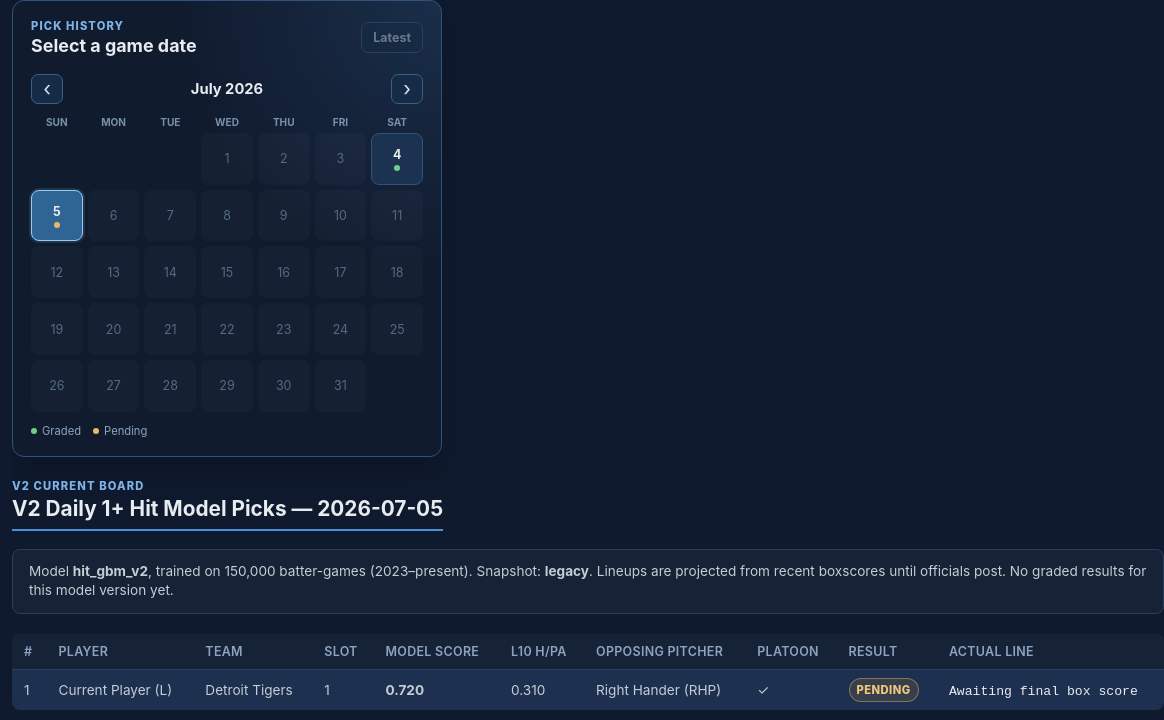
Test case: HitPicksPage history › loads a past calendar date and displays its final batting line
Expected: the text "Current Player (L)" is shown, [46,670,193,710]
Expected: the text "Awaiting final box score" is shown, [949,684,1138,698]
What coordinates should you click on to do the following:
click the button named "Show picks for 2026-07-04, graded"
I would click on:
 (397, 159)
Its box is [371,133,423,185].
(page scrolled)
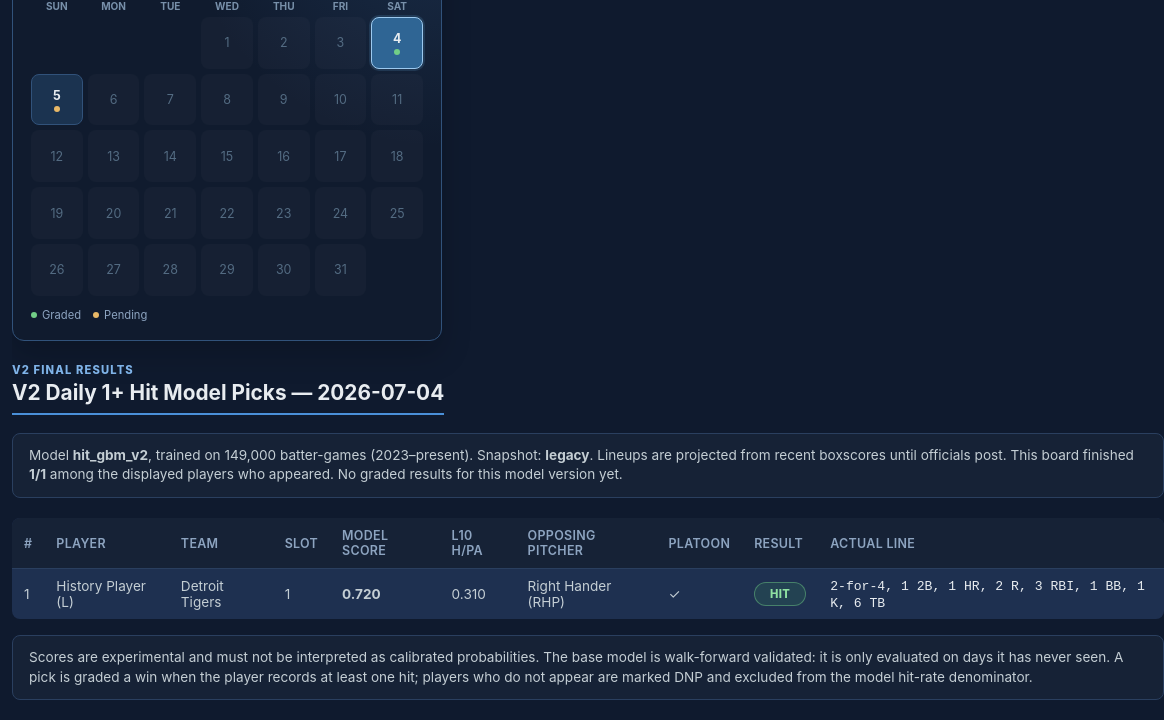
Expected: the text "Hit" is shown, [754,582,806,606]
Result: the text "History Player (L)" is shown at [44,568,169,619]
Result: the text "2-for-4, 1 2B, 1 HR, 2 R, 3 RBI, 1 BB, 1 K, 6 TB" is shown at [830,579,1145,611]
